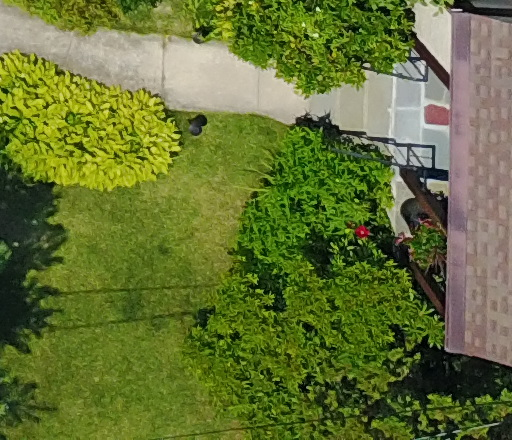pot: (413, 211, 450, 272)
